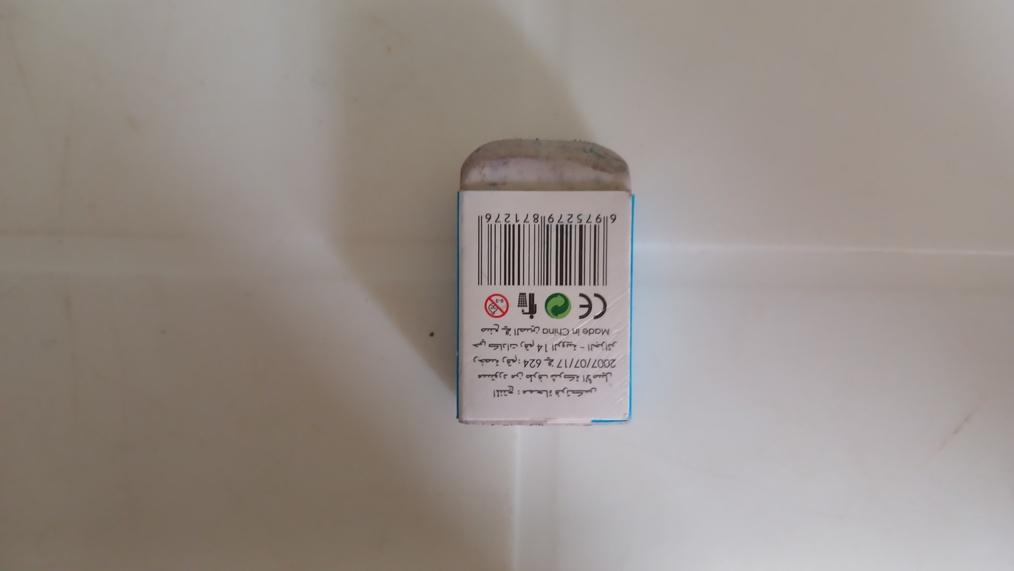Eraser: (456, 137, 633, 421)
